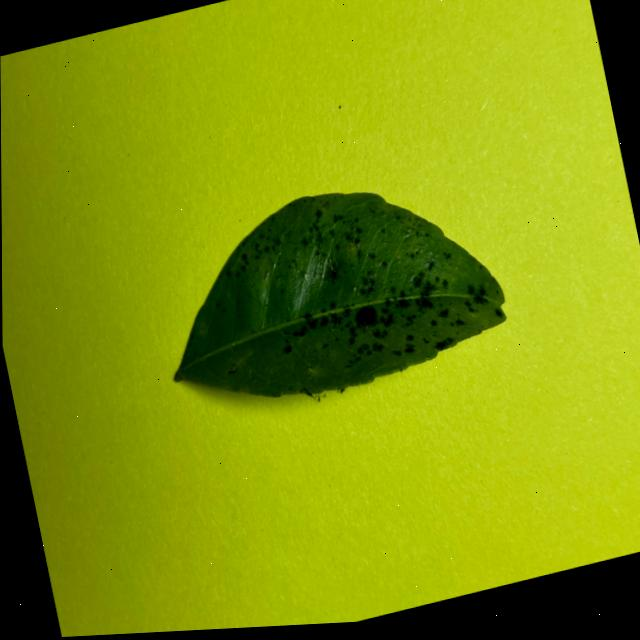sooty_mold: (175, 193, 505, 396)
